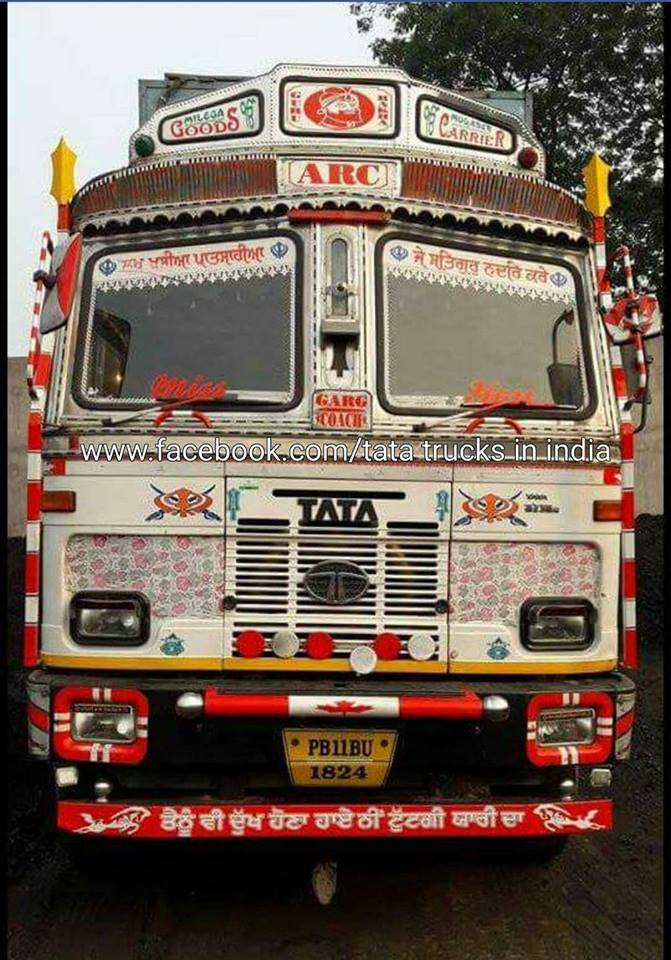truck: (35, 105, 638, 861)
